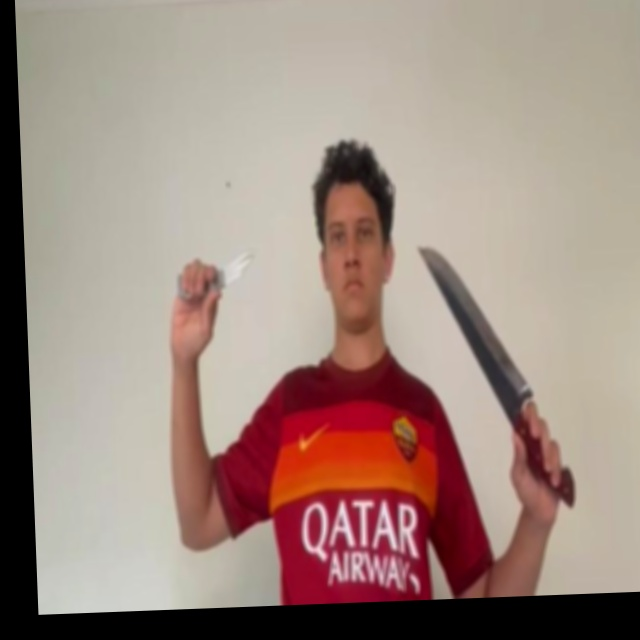Sharp-Object: (419, 241, 531, 398), (221, 248, 259, 285)
